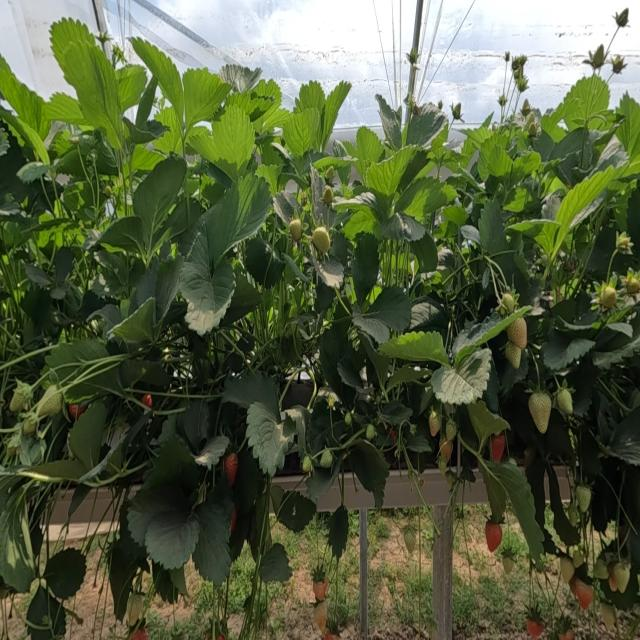Leaves: (549, 166, 619, 261), (61, 43, 124, 148), (179, 232, 235, 335), (485, 462, 544, 559), (205, 176, 271, 259), (131, 38, 184, 129), (133, 158, 186, 247), (192, 480, 233, 586), (451, 306, 529, 357), (144, 503, 201, 570), (127, 485, 188, 547), (246, 402, 296, 477), (366, 146, 417, 219), (208, 105, 255, 180), (431, 348, 489, 405), (0, 76, 51, 139), (141, 437, 198, 493), (68, 401, 107, 471), (395, 177, 456, 220), (183, 68, 229, 125), (507, 219, 564, 262), (223, 371, 278, 415), (378, 331, 449, 363), (603, 406, 640, 466), (568, 74, 610, 126), (467, 401, 509, 452), (320, 81, 351, 150), (50, 17, 95, 64), (319, 324, 351, 390), (366, 286, 412, 331), (543, 331, 595, 370), (155, 254, 184, 320), (282, 108, 319, 159), (351, 234, 379, 300), (406, 104, 448, 146), (178, 401, 212, 451), (478, 200, 507, 255), (479, 465, 506, 524), (44, 93, 91, 126), (98, 216, 141, 251), (337, 357, 371, 401), (130, 261, 158, 313), (542, 91, 580, 129), (375, 95, 401, 149), (353, 308, 390, 343), (260, 543, 292, 583), (191, 436, 229, 469), (219, 63, 262, 92), (381, 213, 425, 241), (357, 126, 383, 167), (510, 151, 541, 183), (454, 124, 492, 149), (131, 145, 165, 172), (486, 145, 512, 177), (316, 260, 344, 289), (251, 79, 282, 102), (17, 162, 49, 183), (26, 264, 51, 288)
Strawberries: (528, 391, 552, 433), (36, 385, 62, 418), (573, 578, 594, 609), (611, 561, 631, 593), (507, 318, 527, 349), (126, 593, 144, 625), (584, 44, 606, 69), (10, 386, 31, 412), (311, 226, 330, 254), (485, 521, 502, 552), (224, 452, 238, 485), (575, 485, 591, 513), (313, 601, 327, 632), (505, 342, 521, 369), (600, 285, 617, 309), (491, 433, 505, 462), (557, 388, 572, 415), (6, 431, 21, 456), (616, 232, 633, 254), (526, 618, 543, 639), (624, 272, 640, 294), (560, 558, 574, 583), (313, 578, 328, 601), (404, 524, 415, 555), (593, 559, 609, 580), (566, 503, 580, 526), (289, 219, 303, 241), (440, 437, 453, 460), (429, 409, 440, 436), (613, 8, 628, 27), (611, 55, 626, 73), (23, 418, 39, 434), (446, 418, 457, 441), (572, 546, 584, 567), (407, 49, 417, 74), (320, 449, 333, 468), (502, 556, 514, 574), (323, 185, 333, 206), (525, 121, 538, 137), (325, 166, 335, 185), (302, 455, 313, 472), (446, 469, 455, 489), (451, 103, 461, 121), (131, 628, 147, 639), (438, 455, 447, 473), (366, 424, 376, 440), (141, 394, 152, 408), (498, 94, 507, 107), (104, 185, 111, 197), (345, 412, 351, 425), (505, 52, 510, 62)
